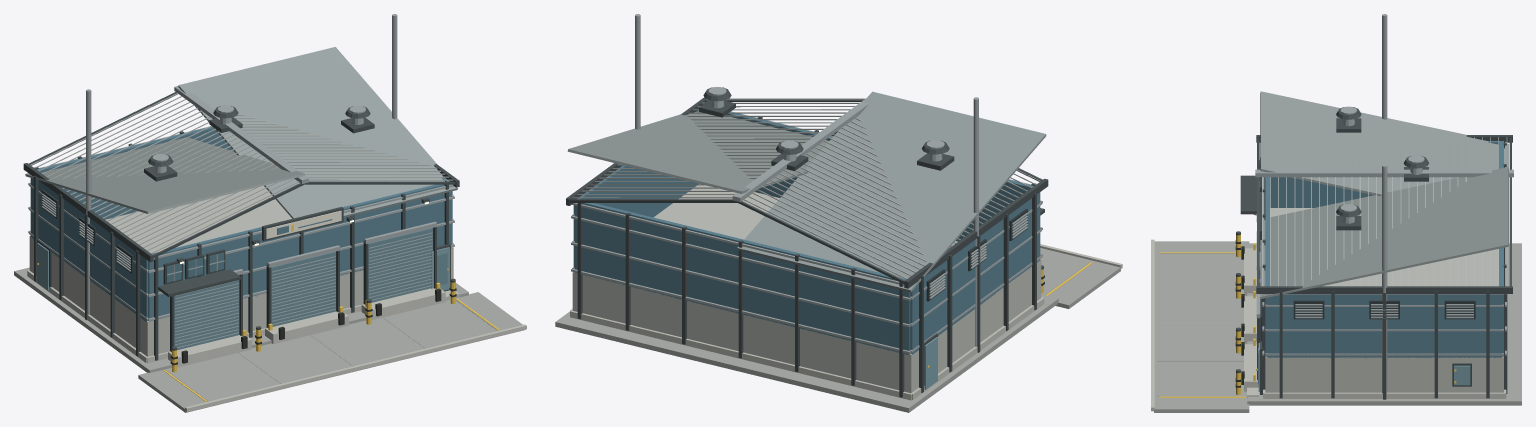
The model's file is WAREHOUSE BUILDING.fbx.
The picture shows the model from 3 angles, left to right: view 1: azimuth 30°, elevation 25°; view 2: azimuth 150°, elevation 25°; view 3: azimuth 270°, elevation 25°; orthographic projection. The views are drawn at different scales.
Parts seen in each view (by area): view 1: Right pitched zinc roof, Front loading apron, Warehouse lower concrete perimeter wall, Left pitched zinc roof, Front upper cladding wall, Left upper cladding wall, Loading bay 2 roller shutter, Loading bay 3 roller shutter, Loading bay 1 roller shutter, Front apron edge curb, Warehouse reinforced foundation slab, Rear upper cladding wall (+23 smaller); view 2: Left pitched zinc roof, Rear upper cladding wall, Warehouse lower concrete perimeter wall, Right pitched zinc roof, Warehouse reinforced foundation slab, Left upper cladding wall, Right upper cladding wall, Front loading apron, Rear concrete plinth band, Front upper cladding wall, Roof ridge cap, Roof eave fascia (+23 smaller); view 3: Right pitched zinc roof, Front loading apron, Left pitched zinc roof, Right upper cladding wall, Warehouse lower concrete perimeter wall, Warehouse reinforced foundation slab, Left upper cladding wall, Roof eave fascia.001, Roof ridge cap, Side concrete plinth band.001, Roof gutter.001, Front upper cladding wall (+19 smaller).
Part boxes in pixels (x1=…): Right pitched zinc roof: x1=178, y1=47, x2=457, y2=218; Front loading apron: x1=138, y1=292, x2=524, y2=412; Warehouse lower concrete perimeter wall: x1=29, y1=186, x2=453, y2=356; Left pitched zinc roof: x1=25, y1=137, x2=304, y2=213; Front upper cladding wall: x1=148, y1=181, x2=451, y2=321; Left upper cladding wall: x1=30, y1=178, x2=148, y2=321; Loading bay 2 roller shutter: x1=271, y1=251, x2=335, y2=326; Loading bay 3 roller shutter: x1=368, y1=228, x2=432, y2=302; Loading bay 1 roller shutter: x1=174, y1=280, x2=239, y2=350; Front apron edge curb: x1=185, y1=324, x2=526, y2=411; Warehouse reinforced foundation slab: x1=14, y1=267, x2=468, y2=372; Rear upper cladding wall: x1=36, y1=126, x2=233, y2=219; Left pitched zinc roof: x1=737, y1=91, x2=1046, y2=292; Rear upper cladding wall: x1=574, y1=203, x2=910, y2=354; Warehouse lower concrete perimeter wall: x1=572, y1=184, x2=1041, y2=393; Right pitched zinc roof: x1=567, y1=112, x2=828, y2=193; Warehouse reinforced foundation slab: x1=555, y1=294, x2=1058, y2=412; Left upper cladding wall: x1=910, y1=192, x2=1040, y2=354; Right upper cladding wall: x1=573, y1=110, x2=699, y2=267; Front loading apron: x1=1040, y1=248, x2=1120, y2=308; Rear concrete plinth band: x1=570, y1=311, x2=912, y2=400; Front upper cladding wall: x1=725, y1=111, x2=1033, y2=241; Roof ridge cap: x1=732, y1=98, x2=869, y2=202; Roof eave fascia: x1=904, y1=178, x2=1048, y2=288; Right pitched zinc roof: x1=1260, y1=167, x2=1508, y2=298; Front loading apron: x1=1154, y1=241, x2=1249, y2=412; Left pitched zinc roof: x1=1260, y1=91, x2=1508, y2=196; Right upper cladding wall: x1=1267, y1=294, x2=1501, y2=358; Warehouse lower concrete perimeter wall: x1=1265, y1=208, x2=1503, y2=392; Warehouse reinforced foundation slab: x1=1247, y1=243, x2=1521, y2=405; Left upper cladding wall: x1=1270, y1=141, x2=1499, y2=207; Roof eave fascia.001: x1=1256, y1=286, x2=1512, y2=293; Roof ridge cap: x1=1255, y1=169, x2=1513, y2=177; Side concrete plinth band.001: x1=1264, y1=392, x2=1504, y2=398; Roof gutter.001: x1=1382, y1=164, x2=1387, y2=393; Front upper cladding wall: x1=1265, y1=177, x2=1269, y2=356.
Bounding box in the file's own units: 2000 × 1326 × 1864.
